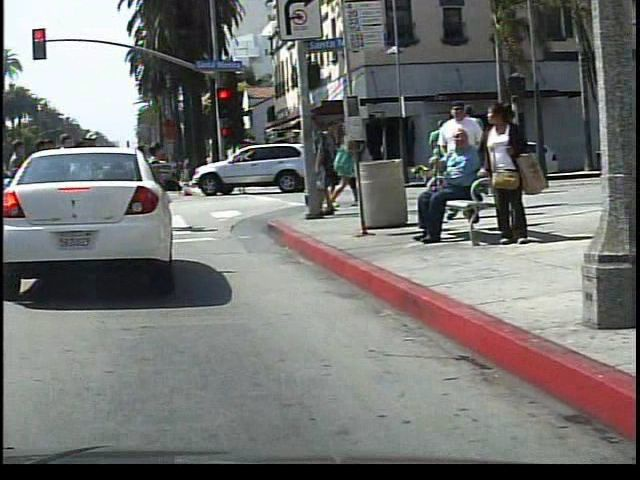person: (470, 100, 537, 246), (408, 129, 486, 252), (318, 115, 365, 213), (222, 146, 247, 197)
